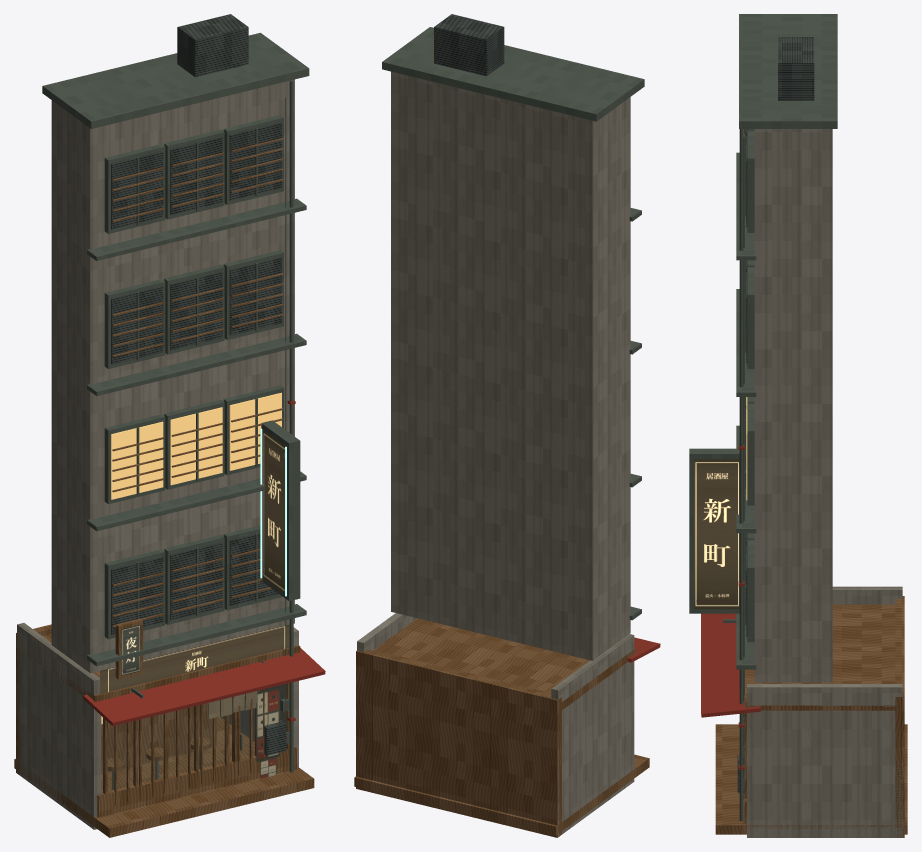
File: yoto-izakaya.glb
3 renders of one model, left to right at view 1: azimuth 30°, elevation 25°; view 2: azimuth 150°, elevation 25°; view 3: azimuth 270°, elevation 25°, orthographic. The views are drawn at different scales.
Parts seen in each view (by area): view 1: Existing Yoto finish, Existing Yoto finish.001, Existing Yoto finish.002, Yoto timber, Existing Yoto finish.003, Existing Yoto finish.004, Existing Yoto finish.005, Existing Yoto finish.008, Existing Yoto finish.012, Existing Yoto finish.010, Existing Yoto finish.014, Existing Yoto finish.006 (+1 smaller); view 2: Existing Yoto finish, Yoto timber, Existing Yoto finish.001, Existing Yoto finish.002; view 3: Existing Yoto finish, Existing Yoto finish.001, Yoto timber, Existing Yoto finish.012, Existing Yoto finish.004, Existing Yoto finish.002.
Part boxes in pixels (box(x1,y1,x2,y2)): Existing Yoto finish: box(17, 79, 298, 829); Existing Yoto finish.001: box(42, 32, 309, 789); Existing Yoto finish.002: box(111, 14, 286, 755); Yoto timber: box(14, 138, 314, 837); Existing Yoto finish.003: box(101, 392, 281, 724); Existing Yoto finish.004: box(83, 400, 325, 738); Existing Yoto finish.005: box(102, 703, 254, 791); Existing Yoto finish.008: box(100, 624, 289, 693); Existing Yoto finish.012: box(263, 429, 285, 593); Existing Yoto finish.010: box(256, 686, 279, 761); Existing Yoto finish.014: box(121, 625, 140, 675); Existing Yoto finish.006: box(208, 691, 257, 718); Existing Yoto finish: box(357, 71, 634, 836); Yoto timber: box(354, 618, 649, 837); Existing Yoto finish.001: box(382, 27, 644, 620); Existing Yoto finish.002: box(434, 14, 504, 76); Existing Yoto finish: box(747, 129, 902, 837); Existing Yoto finish.001: box(689, 14, 837, 821); Yoto timber: box(715, 129, 907, 837); Existing Yoto finish.012: box(694, 459, 739, 609); Existing Yoto finish.004: box(701, 445, 760, 769); Existing Yoto finish.002: box(737, 37, 814, 792).
Bounding box in the file's own units: 4.9 × 16.1 × 4.21.
Materials: 16 (11 with a texture image).
